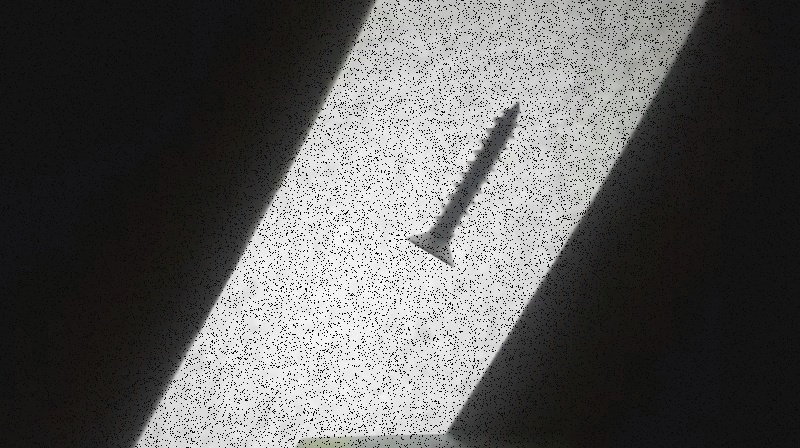S001: (401, 100, 529, 270)
